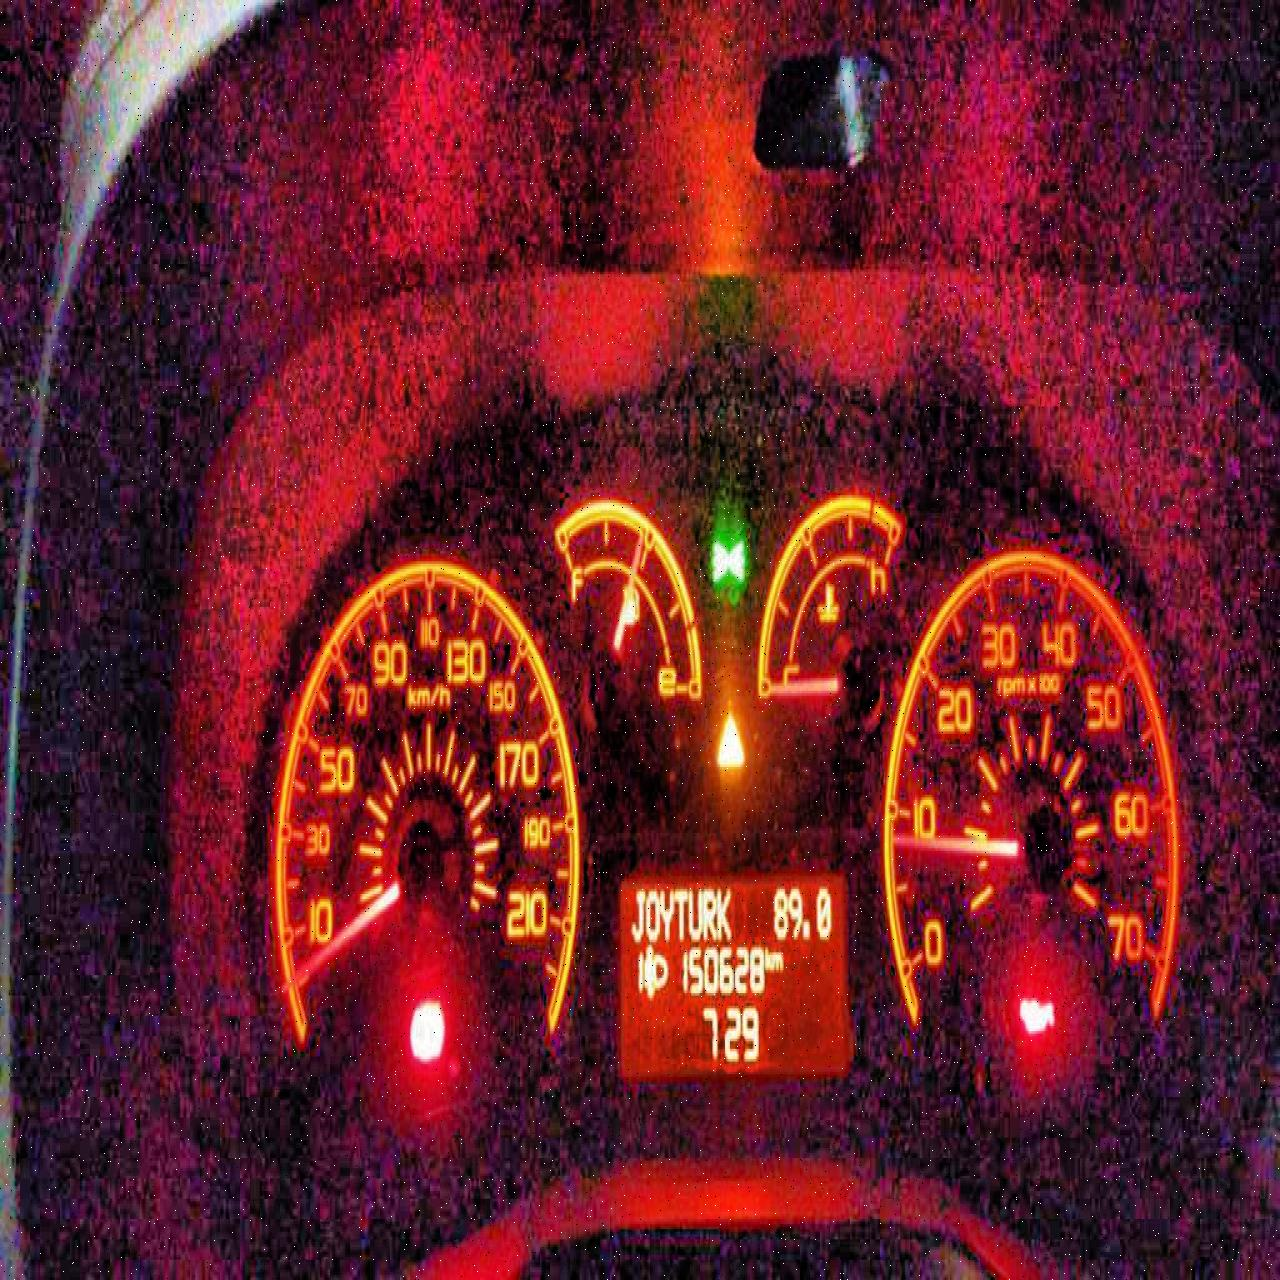-: (801, 914, 810, 940)
0: (813, 884, 832, 938), (702, 945, 717, 995)
1: (679, 947, 688, 993), (635, 947, 644, 993)
2: (722, 1003, 740, 1062), (734, 942, 748, 993)
5: (688, 945, 702, 995)
6: (717, 945, 734, 993)
7: (700, 1001, 719, 1060)
8: (771, 881, 788, 940), (749, 942, 763, 993)
9: (741, 1001, 758, 1062), (789, 881, 802, 940)
X: (644, 884, 659, 942), (715, 884, 730, 942), (673, 881, 687, 942), (629, 884, 644, 942), (659, 884, 673, 942), (701, 884, 715, 942), (688, 884, 701, 942), (771, 947, 783, 971), (764, 942, 771, 971)
odometer: (615, 864, 853, 1084)
